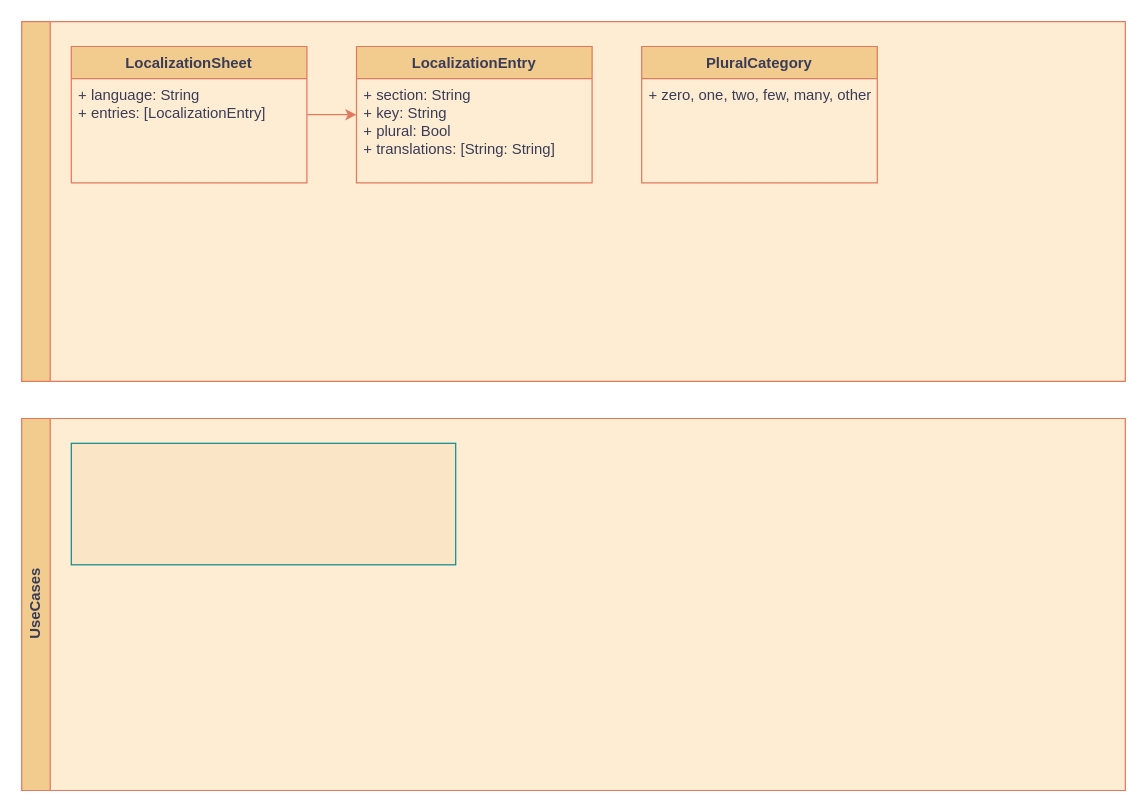
Some shapes in this 1147 by 812 pixel diagram are drawn without their labels. The box of each missing label's shape, as (x1, y1, x2, y2) in pixels:
<<Interface>> SheetDataLoader + loadSheets() async throws -> [LocalizationSheet]: (70, 442, 456, 565)
Entities: (20, 20, 1125, 381)
